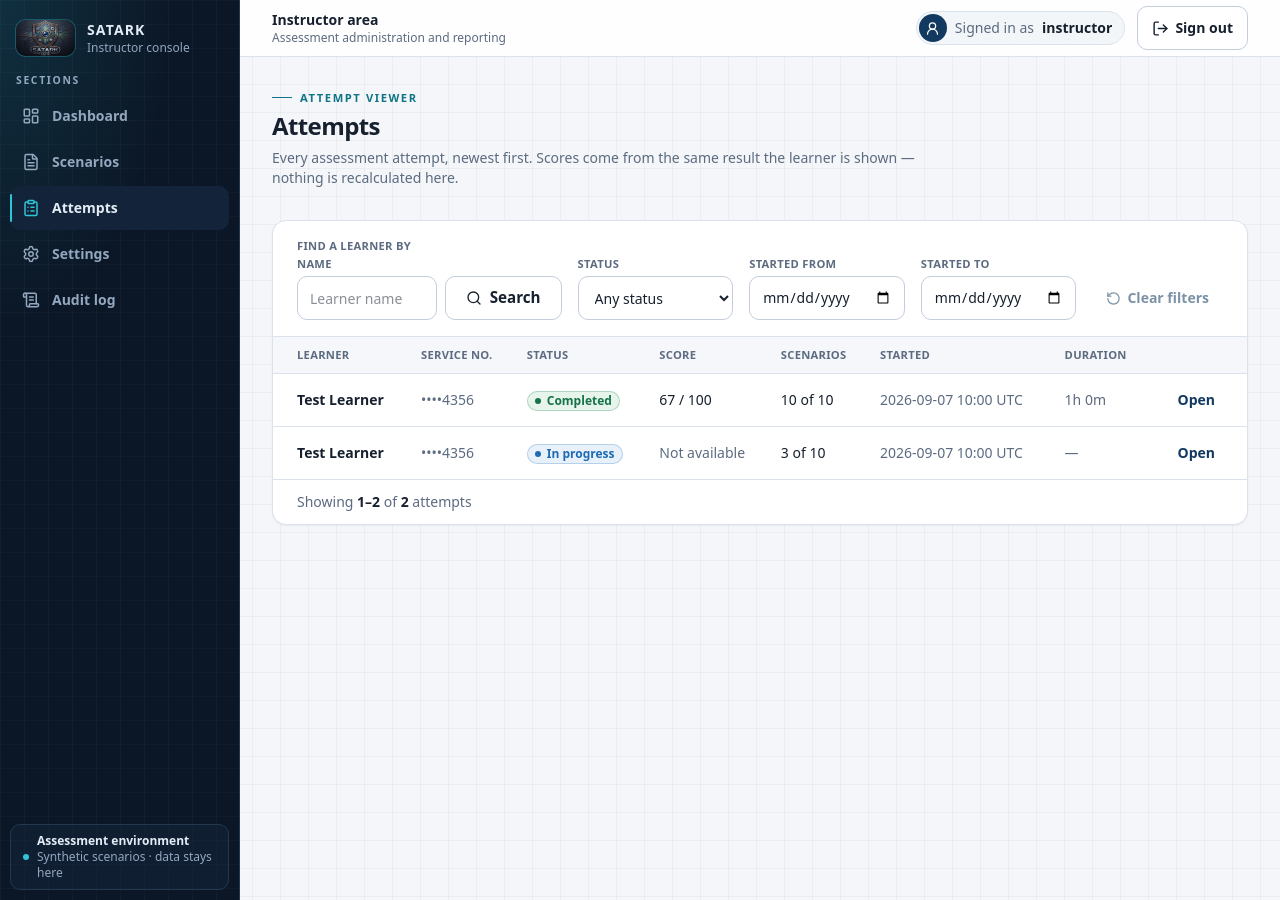
it: export › offers "Export learner" only once one learner is selected (ADM-007)
The image size is (1280, 900).
expect the heading "Attempts" is shown: met, box top-left (272, 109), bottom-right (380, 142)
expect the heading "Export learner" is not shown: met
Type "Test" into the field labelled "Find a learner by name" at {"x": 367, "y": 298}, box top-left (297, 276), bottom-right (437, 320)
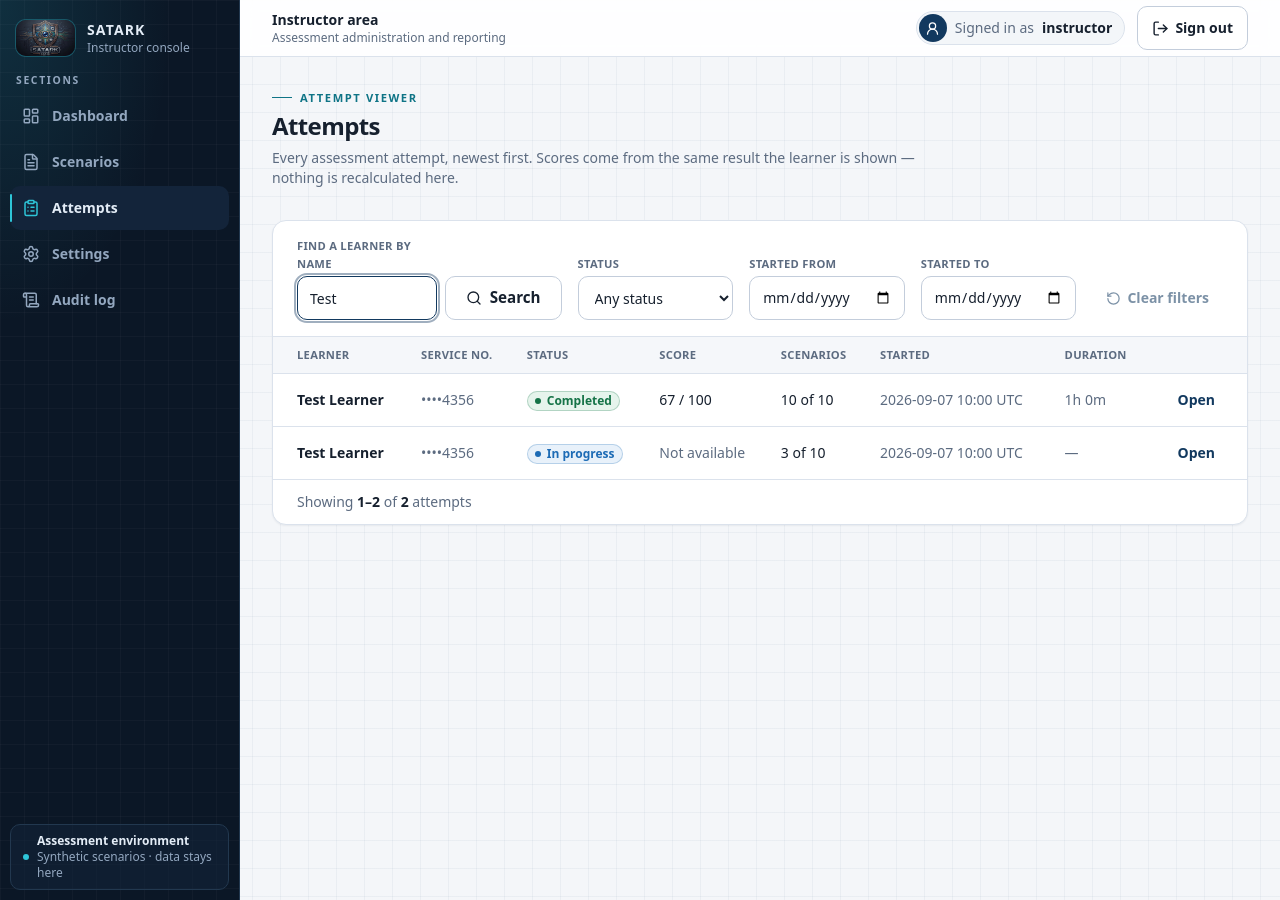
Click the button "Search" at {"x": 503, "y": 298}, box top-left (445, 276), bottom-right (562, 320)
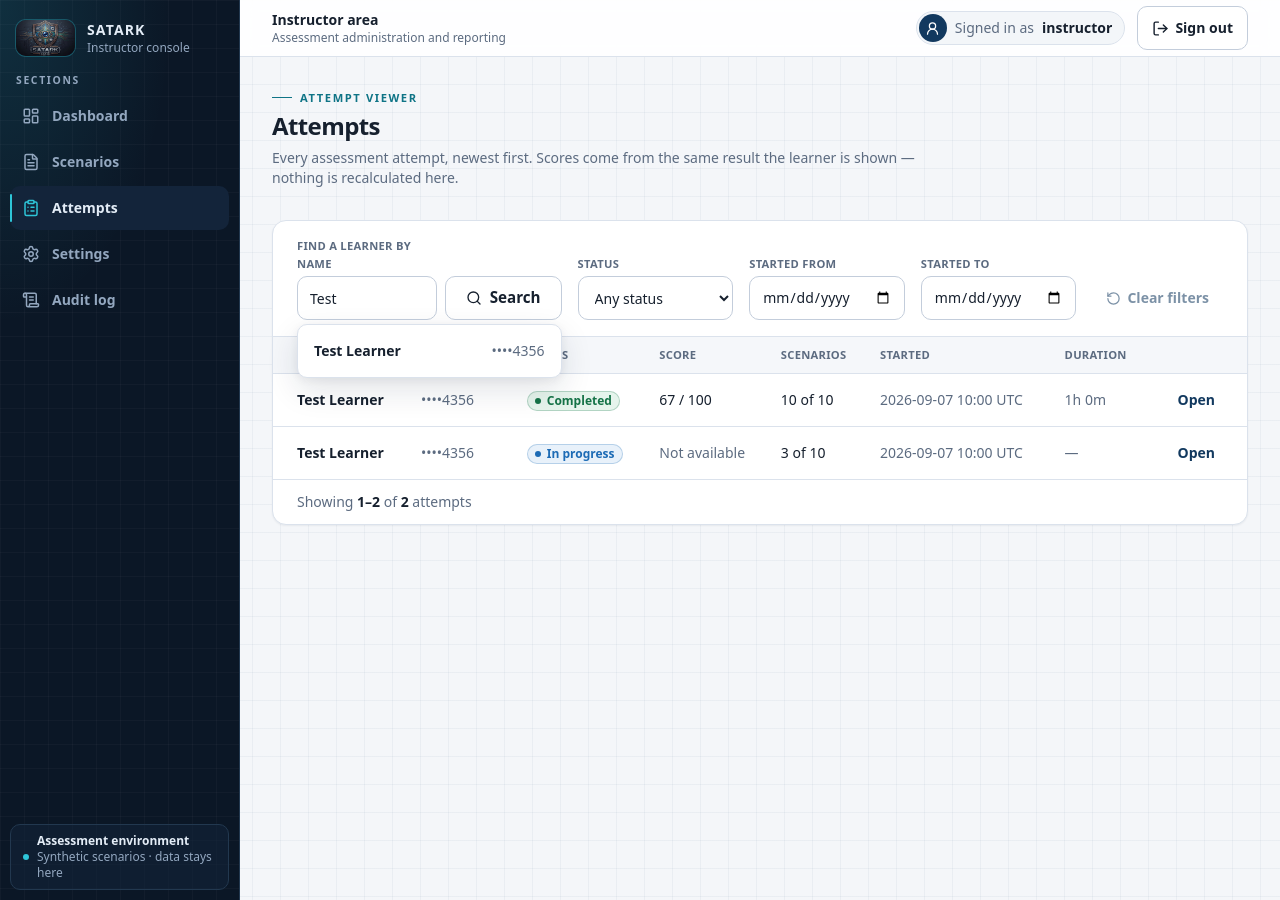
Click the button "Test Learner ••••4356" at {"x": 429, "y": 351}, box top-left (302, 329), bottom-right (557, 373)
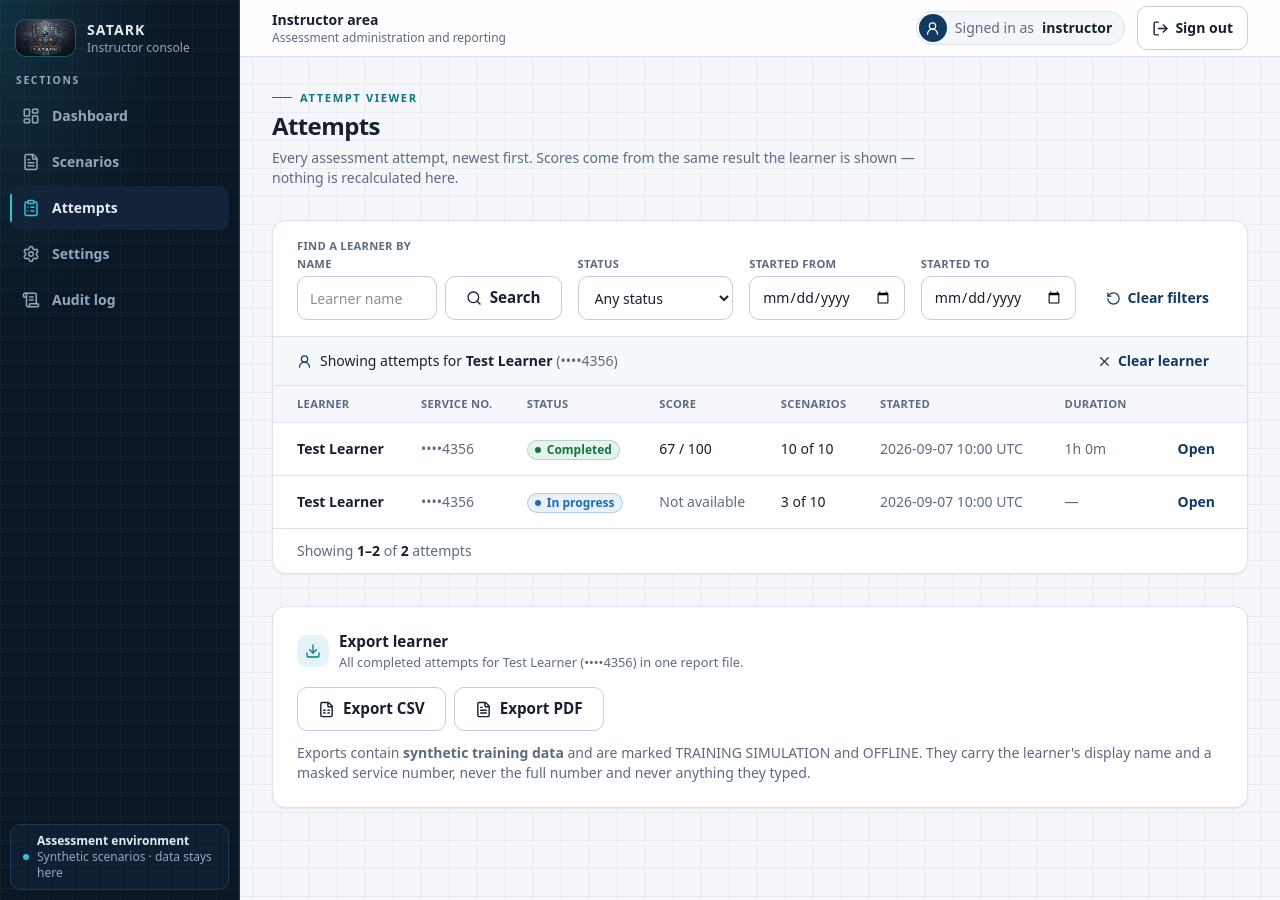
expect the heading "Export learner" is shown: met, box top-left (339, 631), bottom-right (448, 651)
Click the button "Export CSV" at {"x": 371, "y": 709}, box top-left (297, 687), bottom-right (446, 731)
(page scrolled)
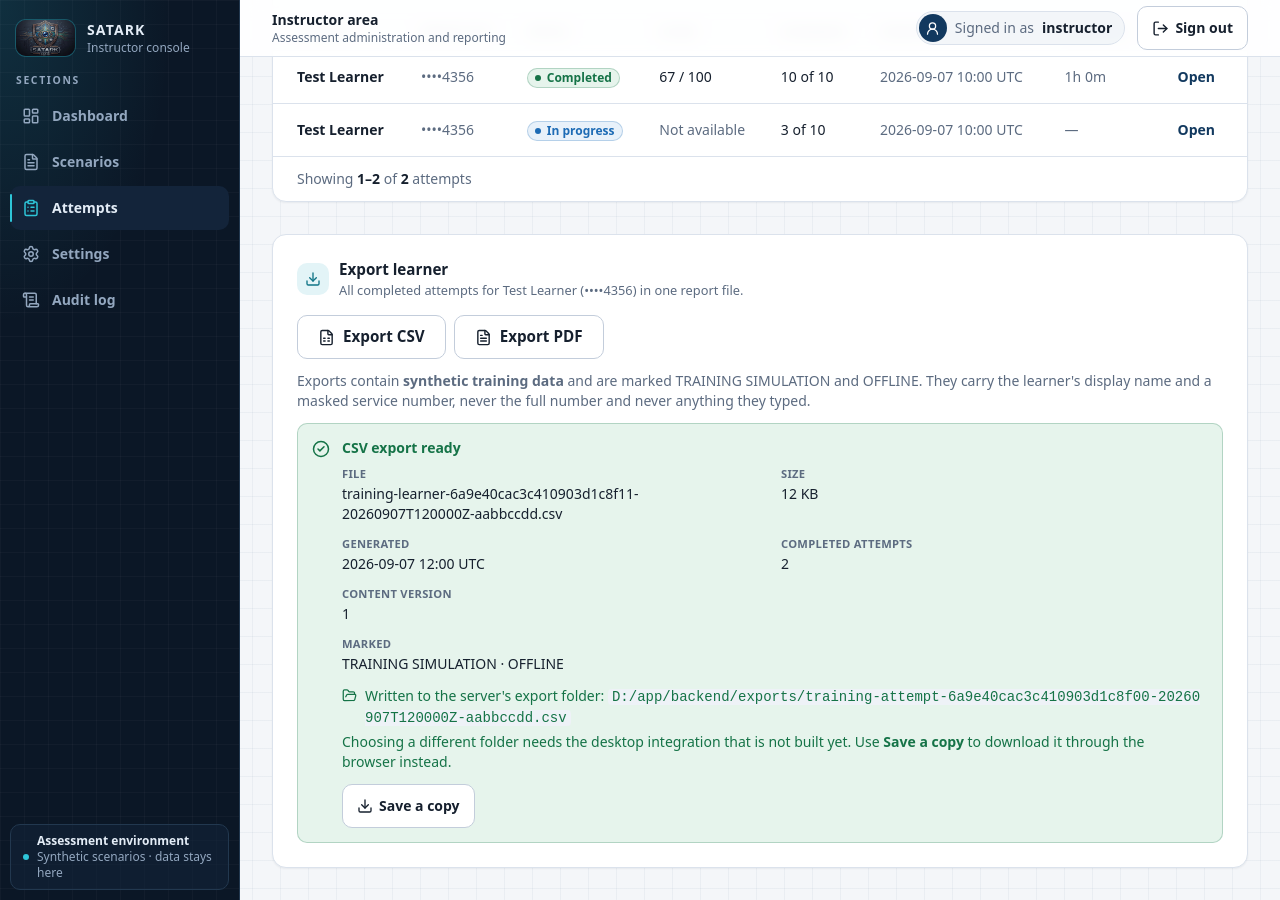
expect the text "CSV export ready" is shown: met, box top-left (342, 438), bottom-right (461, 457)
expect the text "Completed attempts" is shown: met, box top-left (781, 536), bottom-right (912, 551)
expect the text "TRAINING SIMULATION · OFFLINE" is shown: met, box top-left (342, 654), bottom-right (564, 673)
